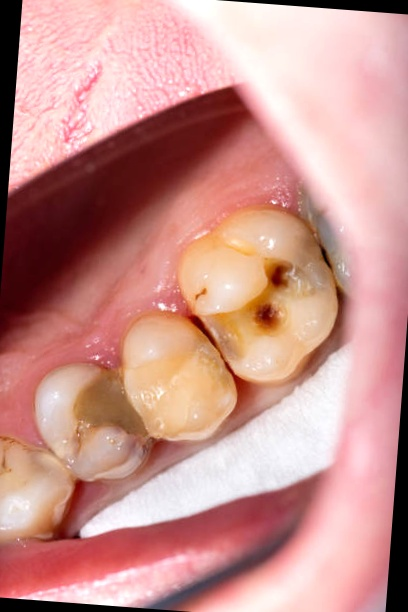Caries: (235, 244, 317, 349)
